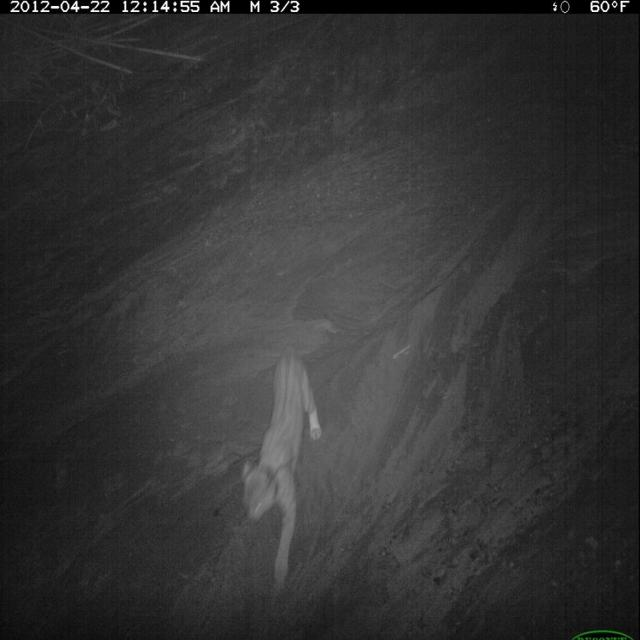bobcat: (241, 347, 328, 589)
